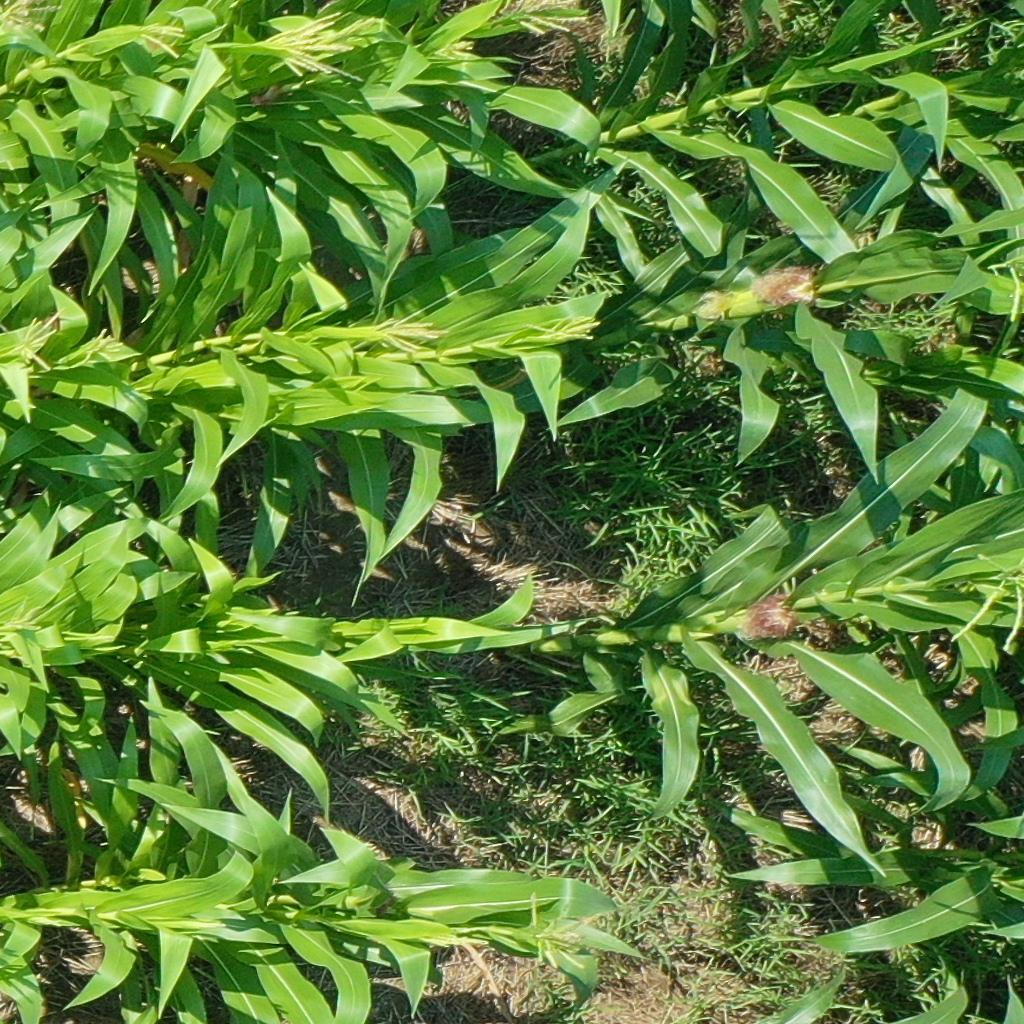Tassel: (259, 7, 373, 86), (942, 547, 1024, 651), (417, 917, 515, 998), (524, 888, 612, 975), (1, 304, 65, 378), (499, 1, 595, 36), (372, 309, 448, 353), (525, 307, 603, 344), (1, 596, 45, 660), (1, 1, 71, 40), (76, 326, 126, 370), (137, 18, 187, 56), (433, 32, 481, 65)
